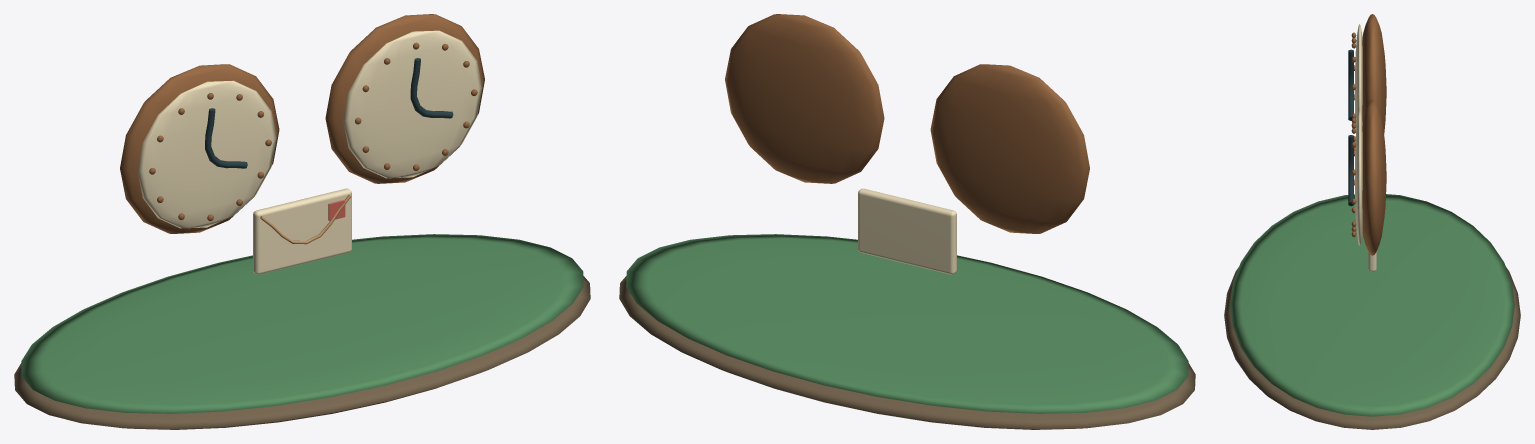
File: complete-second-two-just-now.glb
The picture shows the model from 3 angles, left to right: view 1: azimuth 30°, elevation 25°; view 2: azimuth 150°, elevation 25°; view 3: azimuth 270°, elevation 25°; orthographic projection. The views are drawn at different scales.
Visible parts, largest first — view 1: complete-second-two-just-now_surface_01, complete-second-two-just-now_surface_03, complete-second-two-just-now_surface_02, complete-second-two-just-now_surface_00, complete-second-two-just-now_surface_04; view 2: complete-second-two-just-now_surface_01, complete-second-two-just-now_surface_02, complete-second-two-just-now_surface_00, complete-second-two-just-now_surface_03; view 3: complete-second-two-just-now_surface_01, complete-second-two-just-now_surface_02, complete-second-two-just-now_surface_00, complete-second-two-just-now_surface_03, complete-second-two-just-now_surface_04.
Boxes of the visible parts, x1,y1,x2,y2 form: complete-second-two-just-now_surface_01: (21, 234, 583, 413); complete-second-two-just-now_surface_03: (137, 30, 482, 274); complete-second-two-just-now_surface_02: (120, 14, 484, 233); complete-second-two-just-now_surface_00: (14, 276, 590, 429); complete-second-two-just-now_surface_04: (205, 58, 453, 168); complete-second-two-just-now_surface_01: (626, 234, 1188, 413); complete-second-two-just-now_surface_02: (725, 14, 1089, 233); complete-second-two-just-now_surface_00: (619, 276, 1195, 429); complete-second-two-just-now_surface_03: (858, 54, 1081, 274); complete-second-two-just-now_surface_01: (1230, 194, 1514, 416); complete-second-two-just-now_surface_02: (1351, 14, 1386, 255); complete-second-two-just-now_surface_00: (1224, 267, 1520, 429); complete-second-two-just-now_surface_03: (1354, 24, 1376, 271); complete-second-two-just-now_surface_04: (1348, 49, 1353, 206).
Size of the model in its own units: 4.56 by 2.47 by 2.5.
